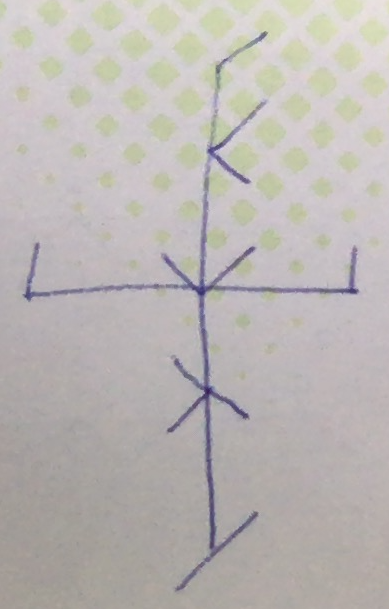Bar: (162, 32, 268, 591)
Barcode: (27, 31, 359, 591)
End: (257, 245, 359, 297)
Start: (28, 241, 162, 301)
